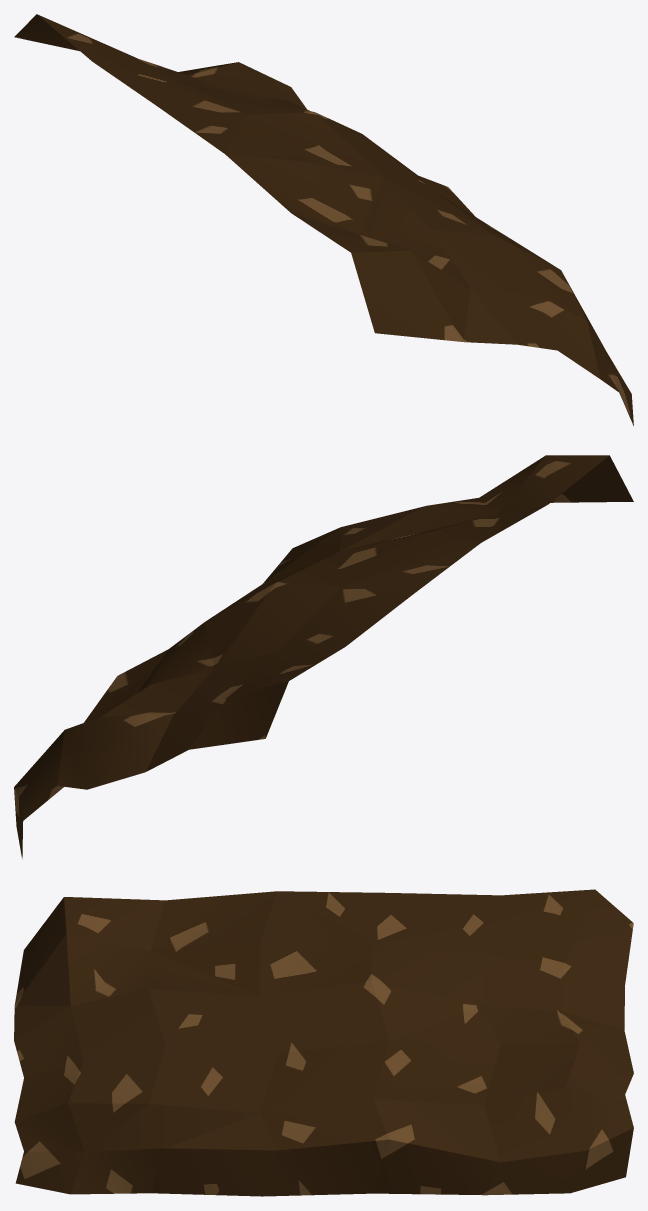
File: SM_bordure.FBX
The picture shows the model from 3 angles, top to bottom: view 1: azimuth 30°, elevation 25°; view 2: azimuth 150°, elevation 25°; view 3: azimuth 270°, elevation 25°; orthographic projection. The views are drawn at different scales.
Parts seen in each view (by area): view 1: bordure; view 2: bordure; view 3: bordure.
Part boxes in pixels (left/top/right/bottom): bordure: left=14, top=14, right=633, bottom=426; bordure: left=14, top=455, right=633, bottom=858; bordure: left=14, top=889, right=633, bottom=1196.
Bounding box in the file's own units: 760 × 561 × 1665.
